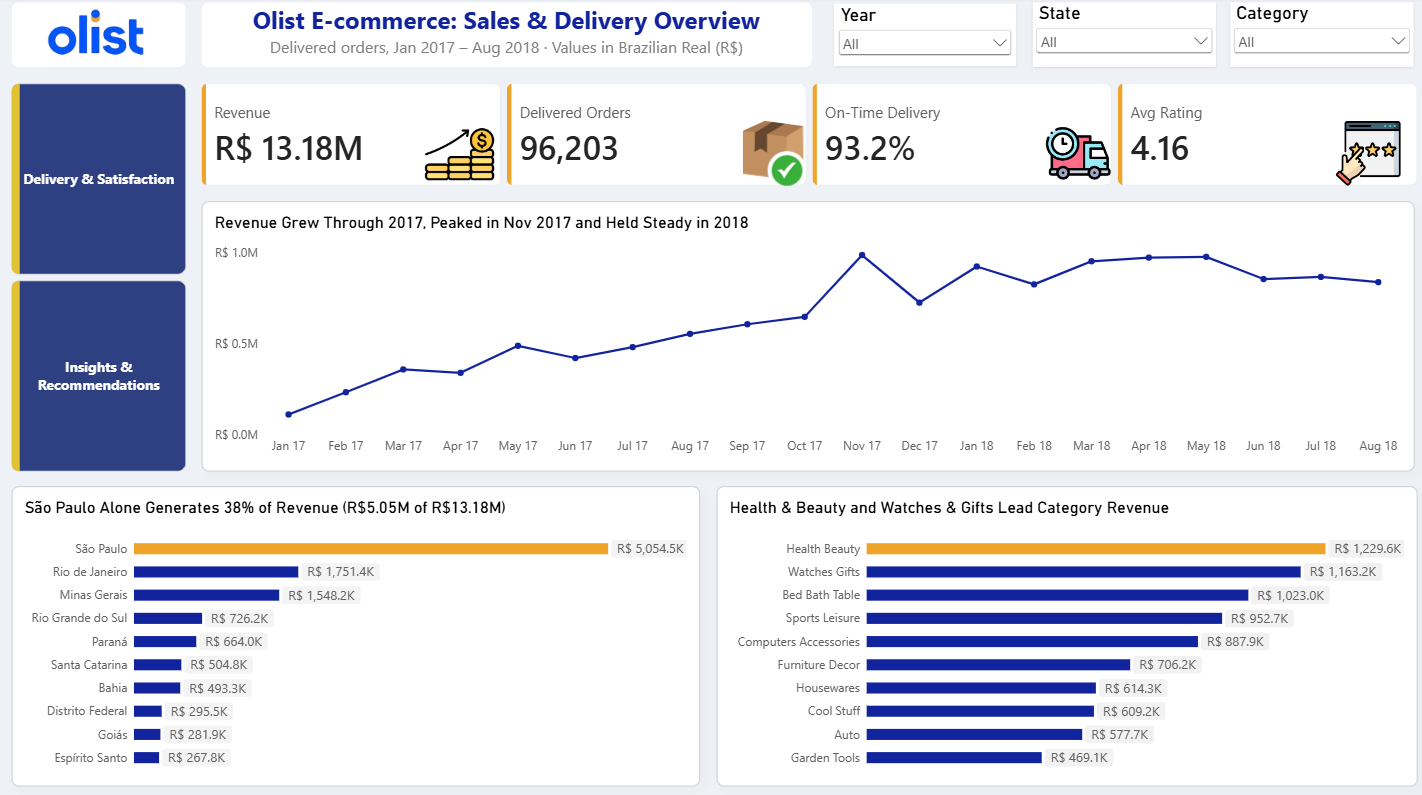

This screenshot's page, from the dashboard's own definition file:
{"tool":"powerbi","page":{"name":"Overview","canvas":[1920,1080],"ordinal":0},"visuals":[{"type":"shape","box":[270.5,8.3,815.7,86.7],"z":0},{"type":"textbox","box":[321.1,10.3,714.2,107],"z":1000},{"type":"shape","box":[16.5,8.2,232.6,86.4],"z":2000},{"type":"image","box":[16.5,0,226.4,94.7],"z":3000},{"type":"cardVisual","fields":{"Data":["Measure (2).Revenue","Measure (2).Orders","Measure (2).On-Time %","Measure (2).Avg Rating"]},"box":[270.5,117.7,1625.1,136.3],"z":4000},{"type":"lineChart","title":"Revenue Grew Through 2017, Peaked in Nov 2017 and Held Steady in 2018","fields":{"Category":["Date.Month Year"],"Y":["Measure (2).Revenue"]},"box":[270.5,274.6,1621,361.4],"z":5000},{"type":"clusteredBarChart","title":"Health & Beauty and Watches & Gifts Lead Category Revenue","fields":{"Category":["Products.Category"],"Y":["Measure (2).Revenue"]},"box":[959.2,654.5,936.5,401.4],"z":6000},{"type":"clusteredBarChart","title":"São Paulo Alone Generates 38% of Revenue (R$5.05M of R$13.18M)","fields":{"Category":["Customers.State Name"],"Y":["Measure (2).Revenue"]},"box":[16.5,654.5,920.1,401.4],"z":7000},{"type":"slicer","fields":{"Values":["Date.Year"]},"box":[1115.6,10.3,242.9,84.4],"z":8000},{"type":"slicer","fields":{"Values":["Customers.State Name"]},"box":[1381.1,8.2,244.9,86.4],"z":9000},{"type":"slicer","fields":{"Values":["Products.Category"]},"box":[1644.6,8.2,244.9,86.4],"z":10000},{"type":"pageNavigator","box":[16.5,117.7,233.3,518.3],"z":11000},{"type":"image","box":[567.9,148.7,95,126],"z":12000},{"type":"image","box":[962.3,167.3,144.5,86.7],"z":13000},{"type":"image","box":[1381.5,167.3,121.8,86.7],"z":14000},{"type":"image","box":[1767.6,167.3,121.8,86.7],"z":15000}]}

Visuals, with their boxes in screenshot pixels (x1, y1, x2, y2), scaled from the page's 1920x1080 canvas onto the 1422x795 screenshot:
shape: (left=200, top=6, right=804, bottom=70)
textbox: (left=238, top=8, right=767, bottom=86)
shape: (left=12, top=6, right=184, bottom=70)
image: (left=12, top=0, right=180, bottom=70)
cardVisual - Measure (2).Revenue x Measure (2).Orders: (left=200, top=87, right=1404, bottom=187)
"Revenue Grew Through 2017, Peaked in Nov 2017 and Held Steady in 2018" lineChart: (left=200, top=202, right=1401, bottom=468)
"Health & Beauty and Watches & Gifts Lead Category Revenue" clusteredBarChart: (left=710, top=482, right=1404, bottom=777)
"São Paulo Alone Generates 38% of Revenue (R$5.05M of R$13.18M)" clusteredBarChart: (left=12, top=482, right=694, bottom=777)
slicer - Date.Year: (left=826, top=8, right=1006, bottom=70)
slicer - Customers.State Name: (left=1023, top=6, right=1204, bottom=70)
slicer - Products.Category: (left=1218, top=6, right=1399, bottom=70)
pageNavigator: (left=12, top=87, right=185, bottom=468)
image: (left=421, top=109, right=491, bottom=202)
image: (left=713, top=123, right=820, bottom=187)
image: (left=1023, top=123, right=1113, bottom=187)
image: (left=1309, top=123, right=1399, bottom=187)
